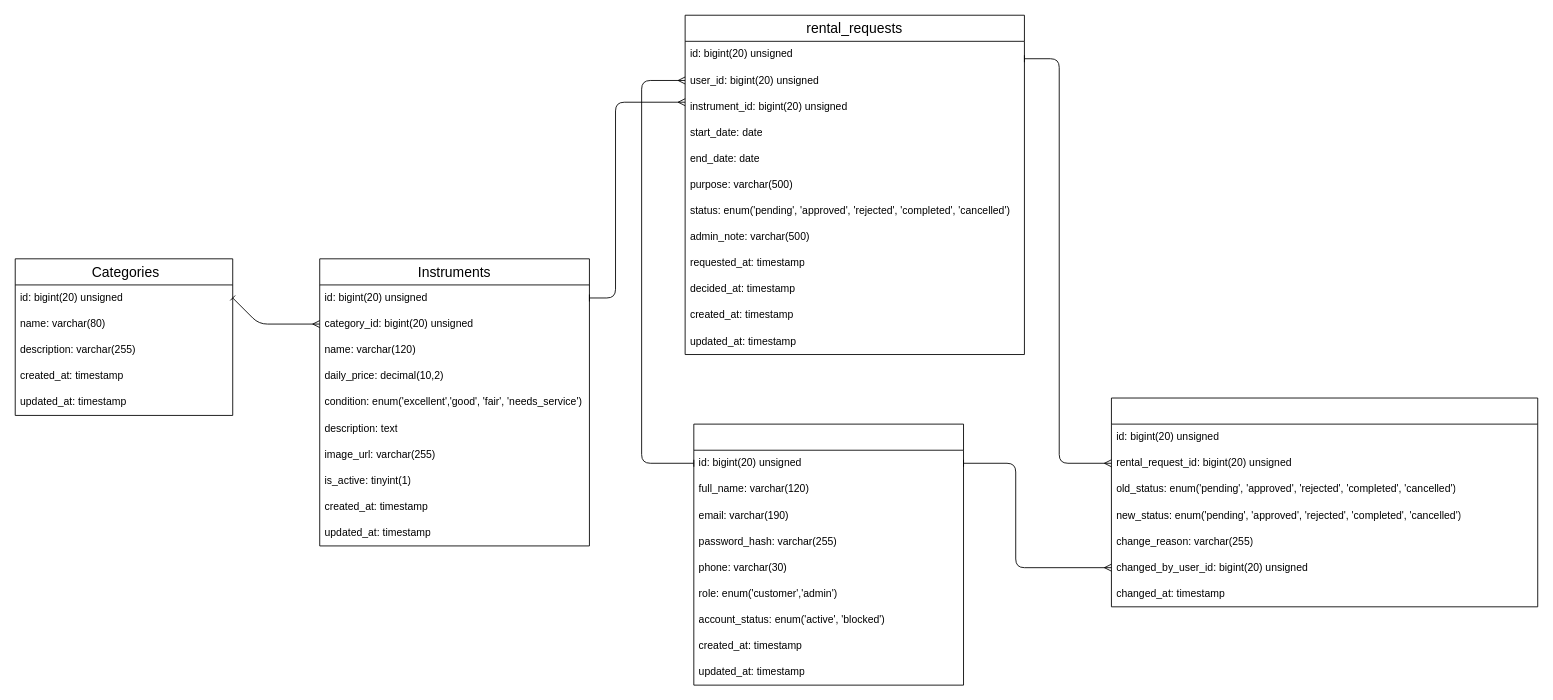
The diagram is 1553 pixels wide and 700 high, and some of its shapes have lost their labels. Here are the shapes that lost their labels. From the top down, the box of each, then its label:
(1111, 397, 1538, 607): rental_status_logs
(693, 423, 964, 685): users
